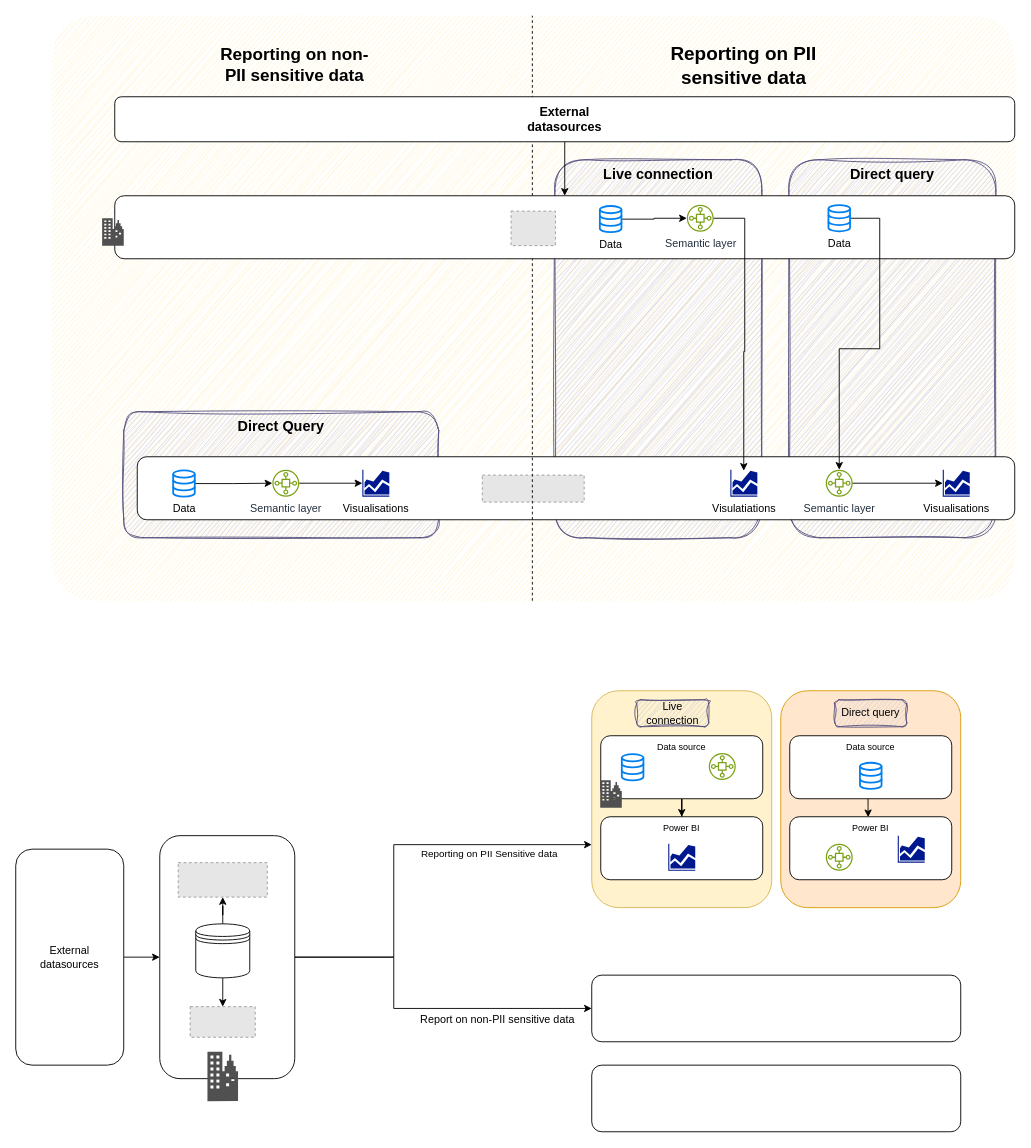
Some shapes in this 1031 by 1148 pixel diagram are drawn without their labels. Grey dashed boxes stand in for pictures. Here are the shapes that lost their labels. From the top down, the box of each, then its label:
(195, 923, 250, 978): SQL DWH
(591, 974, 961, 1042): Query mode
(591, 1064, 961, 1132): Ba
